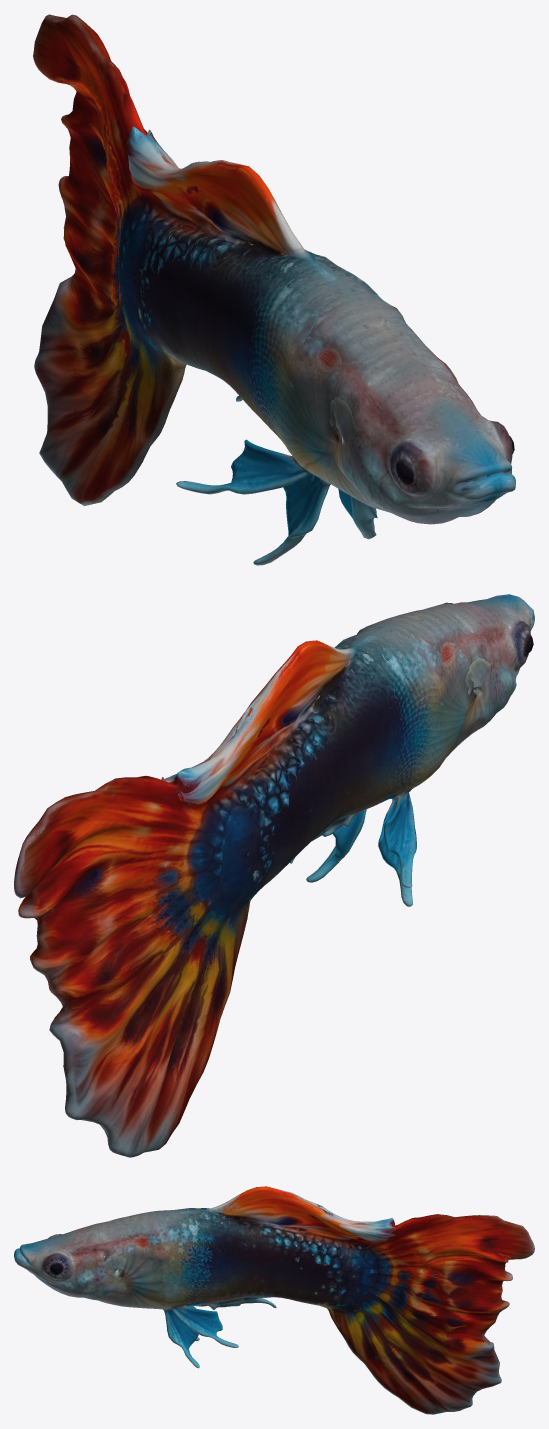
The model's file is DragonHeadMaleGuppy.fbx.
The picture shows the model from 3 angles, top to bottom: view 1: azimuth 30°, elevation 25°; view 2: azimuth 150°, elevation 25°; view 3: azimuth 270°, elevation 25°; orthographic projection. The views are drawn at different scales.
Visible parts, largest first — view 1: DragonHead; view 2: DragonHead; view 3: DragonHead.
Boxes of the visible parts, left/top/right/bottom form: DragonHead: left=33, top=14, right=515, bottom=565; DragonHead: left=14, top=594, right=534, bottom=1157; DragonHead: left=14, top=1186, right=534, bottom=1414.
Bounding box in the file's own units: 2.25 × 4.95 × 10.25.
Materials: 1 (1 with a texture image).
